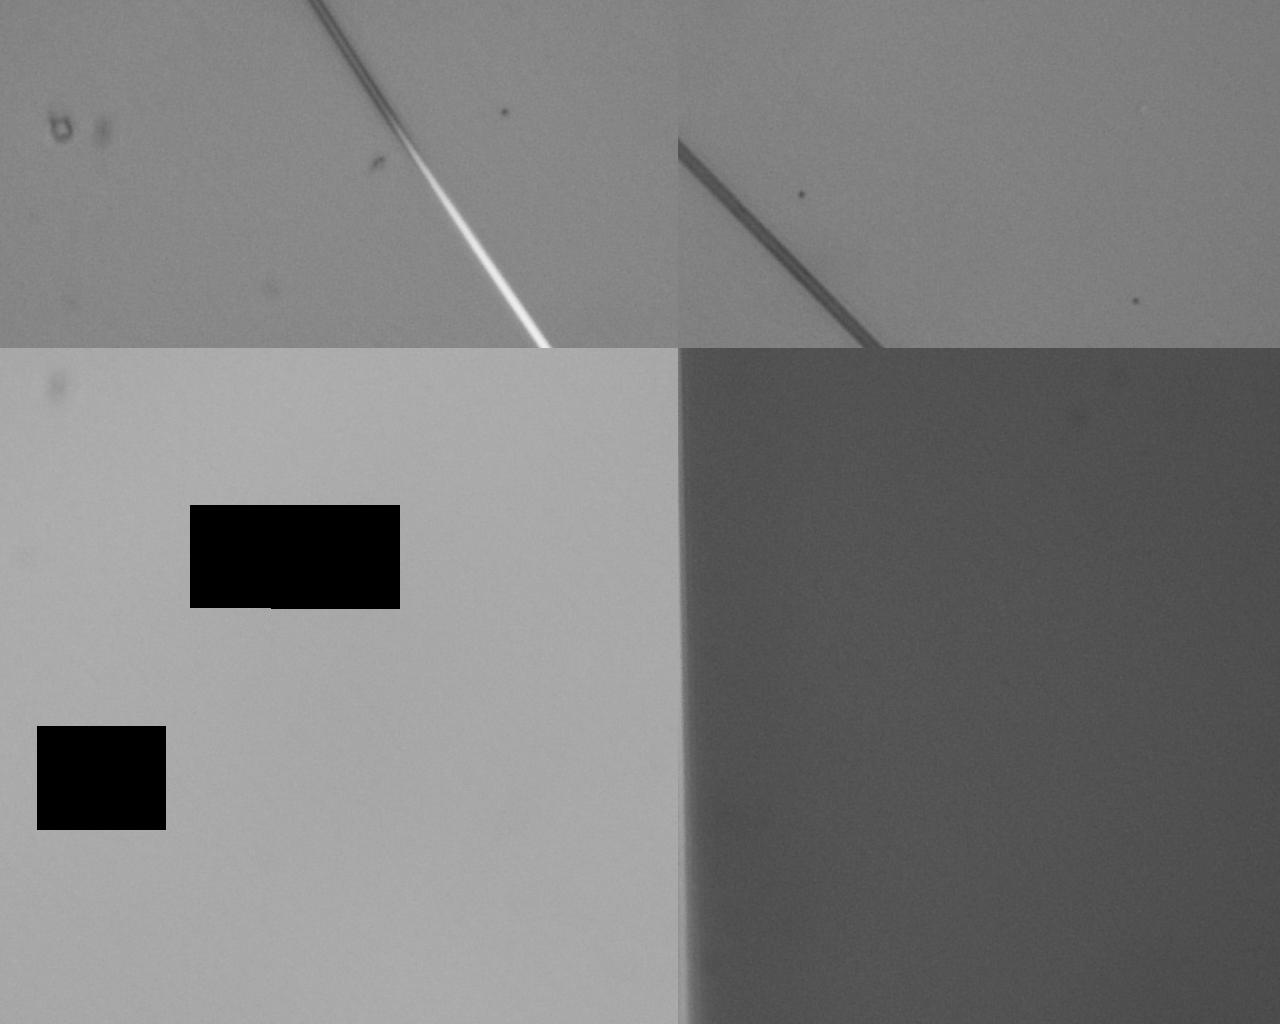fiber: (0, 143, 1280, 1020)
